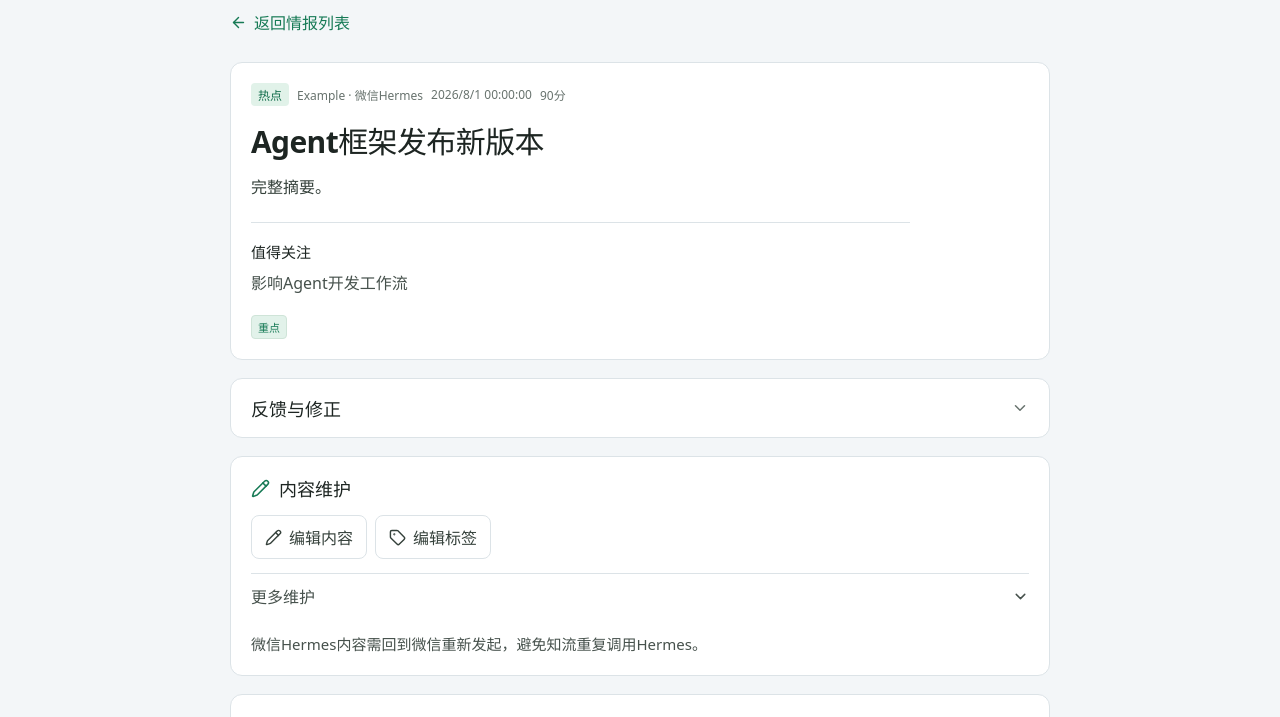
Test case: 编辑弹窗关闭后恢复焦点并解锁页面
This screenshot has width=1280, height=717.
Click the button "编辑内容" at (309, 537), box 251,515 -> 367,559
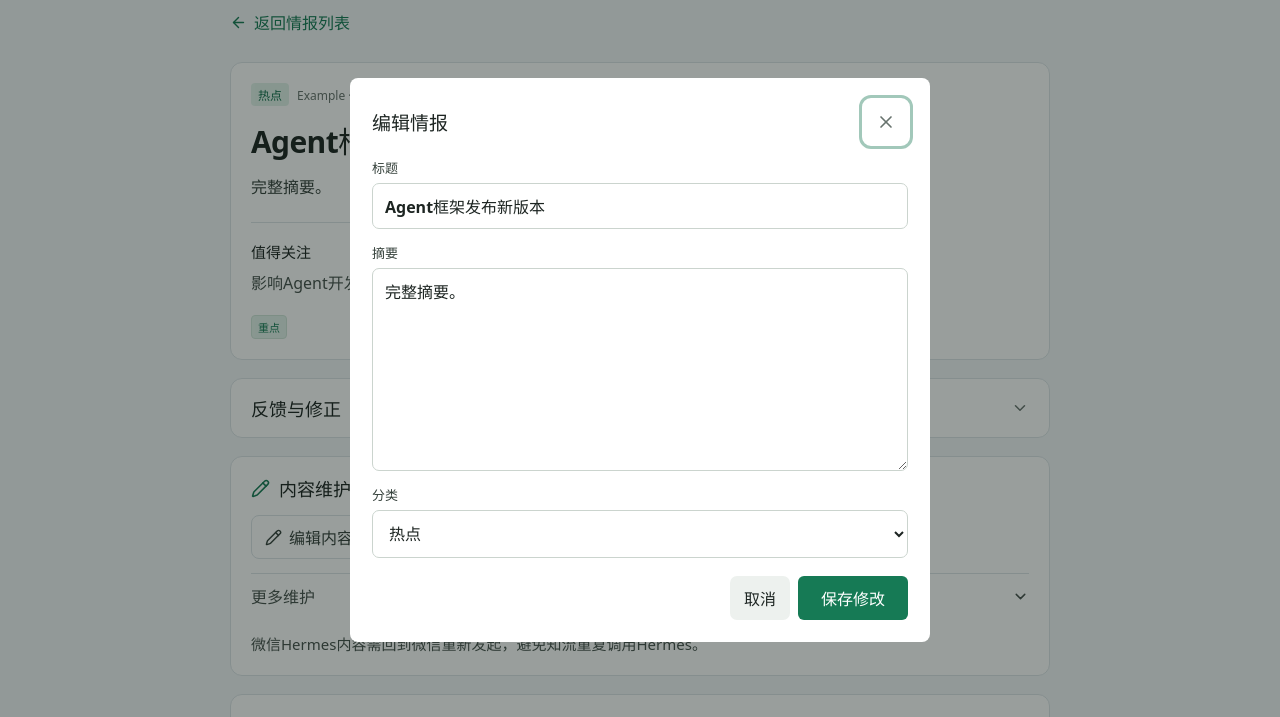
Press Escape
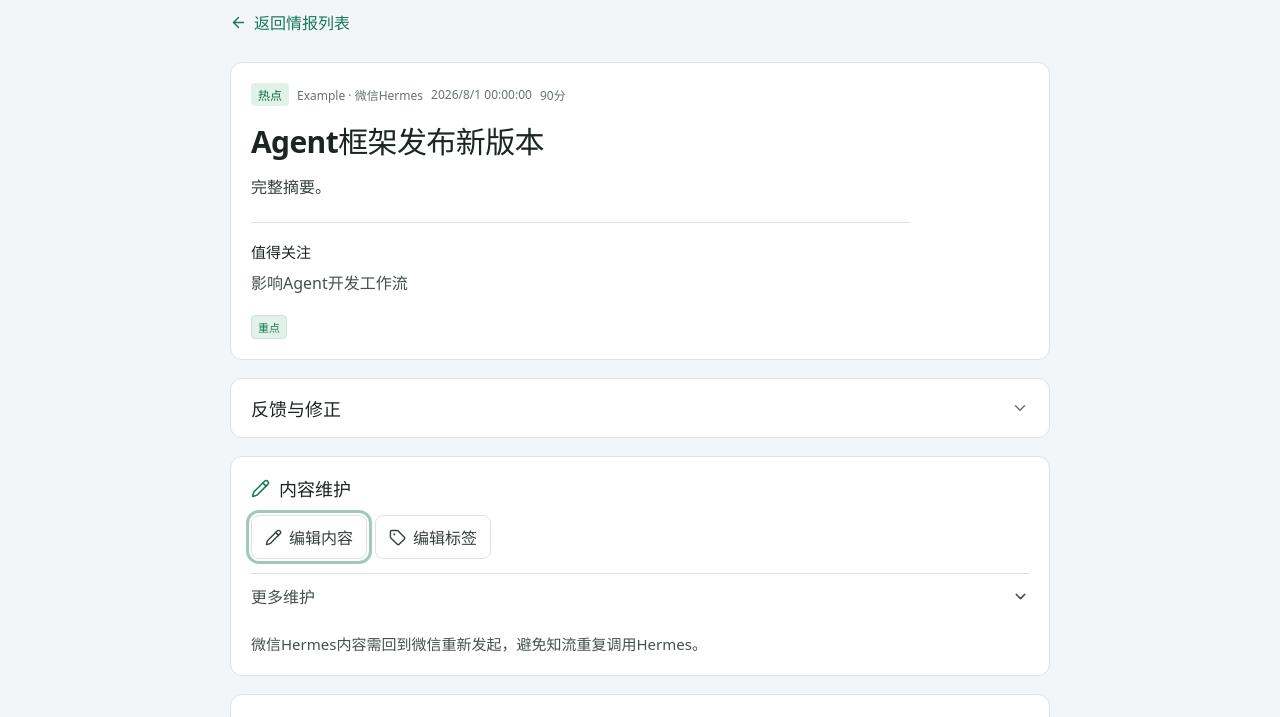
Now the heading "编辑情报" is gone
